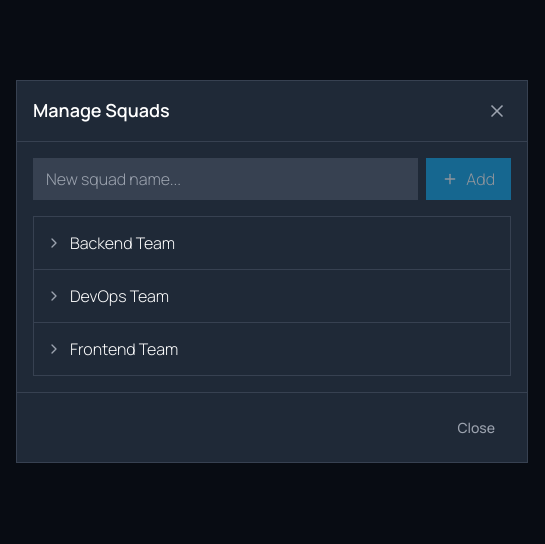
Test case: ManageSquadsModal › user list functionality › collapses user list when squad clicked again
Click the text "Frontend Team".
click(124, 348)  # box [70,336,178,360]
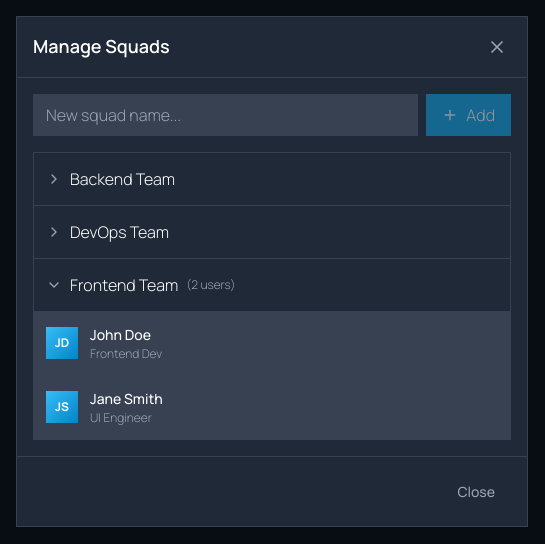
Now the text "Frontend Dev" is shown, box [90,344,162,362]
Click the text "Frontend Team".
click(124, 284)  # box [70,272,178,296]
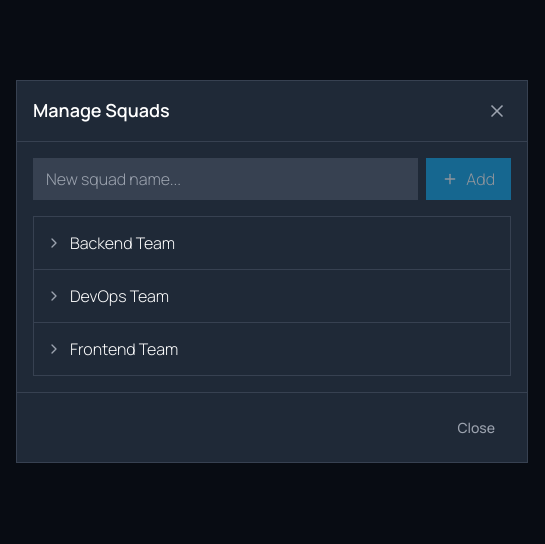
Now the text "Frontend Dev" is gone
